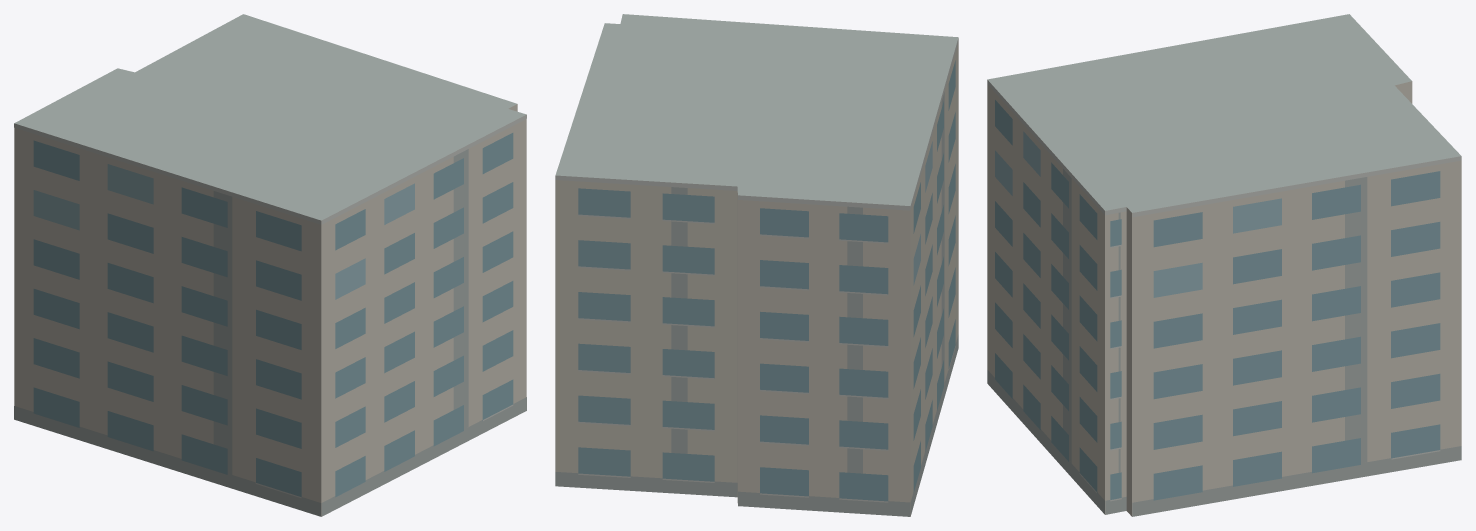
The model's file is survey-upis-32864433.glb.
3 views of the same model, side by side, from view 1: azimuth 30°, elevation 25°; view 2: azimuth 150°, elevation 25°; view 3: azimuth 270°, elevation 25° (orthographic). The views are drawn at different scales.
Visible parts, largest first — view 1: survey-upis-32864433.tmp; view 2: survey-upis-32864433.tmp; view 3: survey-upis-32864433.tmp.
Boxes of the visible parts, x1,y1,x2,y2 form: survey-upis-32864433.tmp: [14, 14, 526, 516]; survey-upis-32864433.tmp: [555, 14, 958, 516]; survey-upis-32864433.tmp: [987, 14, 1461, 516].
Bounding box in the file's own units: 23.52 × 16.75 × 23.7.
